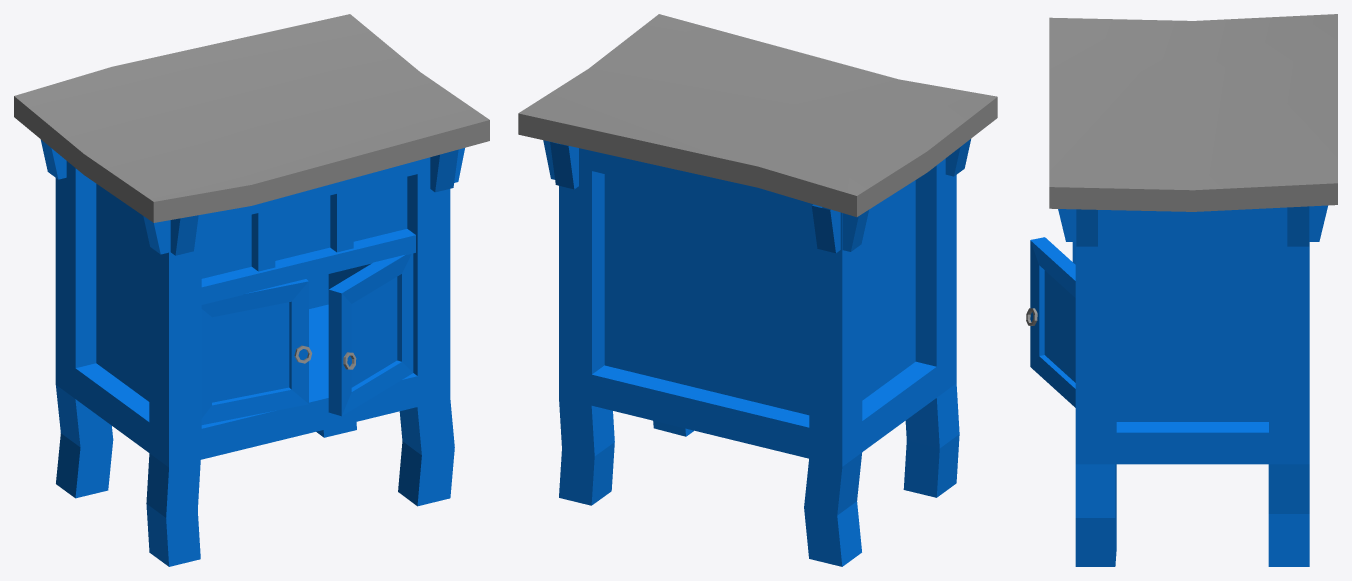
3 views of the same model, side by side, from view 1: azimuth 30°, elevation 25°; view 2: azimuth 150°, elevation 25°; view 3: azimuth 270°, elevation 25° (orthographic). The views are drawn at different scales.
Visible parts, largest first — view 1: Object005, Box002, Group001, Object003, Object004, Box003, Box001, Plane002, Box017, Box005; view 2: Object005, Box002, Box001; view 3: Object005, Box002, Group001, Box001.
Part boxes in pixels (x1,y1,x2,y2): Object005: (55, 157, 454, 566); Box002: (14, 14, 489, 222); Group001: (328, 253, 413, 416); Object003: (201, 279, 308, 424); Object004: (212, 302, 289, 402); Box003: (201, 229, 415, 304); Box001: (40, 139, 464, 255); Plane002: (307, 264, 370, 392); Box017: (251, 209, 275, 271); Box005: (330, 190, 353, 252); Object005: (559, 144, 959, 566); Box002: (518, 14, 997, 217); Box001: (543, 139, 970, 253); Object005: (1075, 206, 1309, 566); Box002: (1049, 14, 1337, 211); Group001: (1030, 237, 1075, 407); Box001: (1058, 205, 1328, 246).
Bounding box in the file's own units: 60.36 × 66.95 × 46.97.
